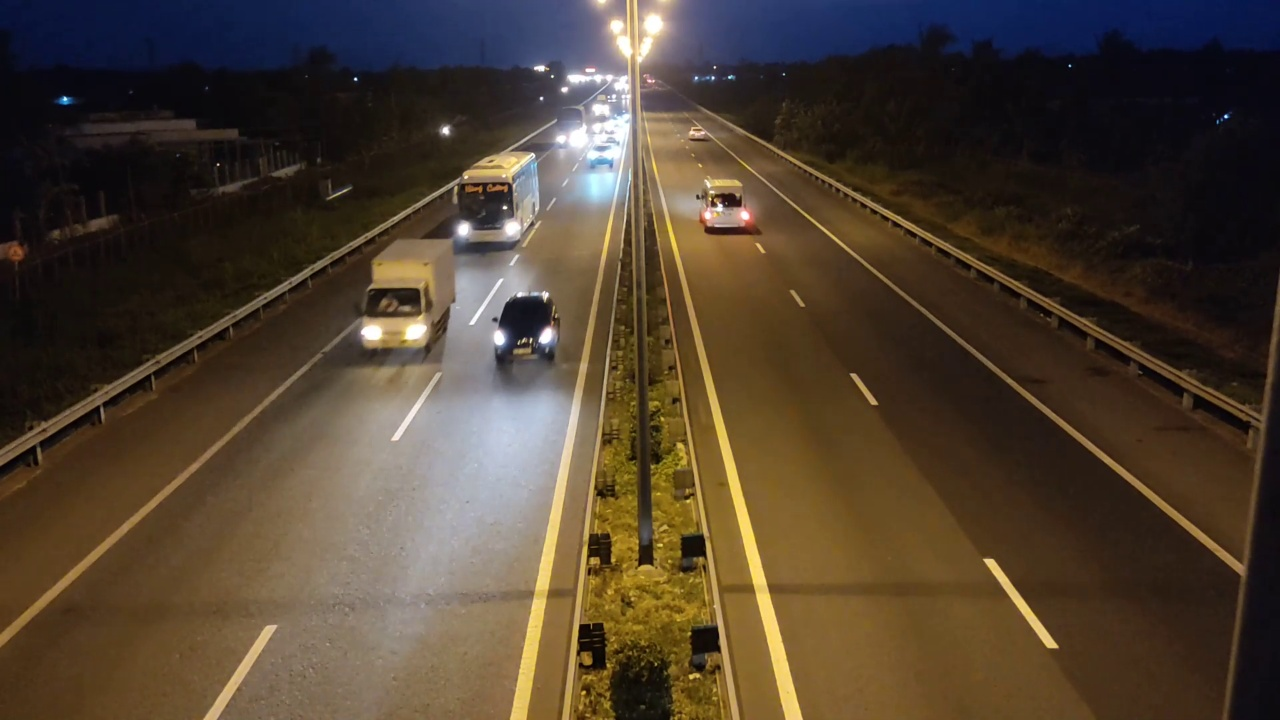bus: (455, 149, 541, 249)
car: (493, 292, 561, 365), (699, 179, 759, 234), (587, 143, 621, 171)
truck: (358, 236, 457, 357)
